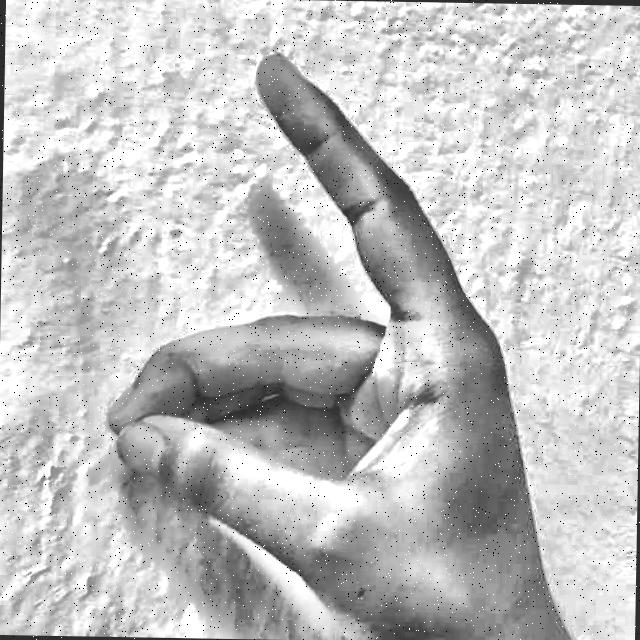Dha: (100, 32, 578, 640)
